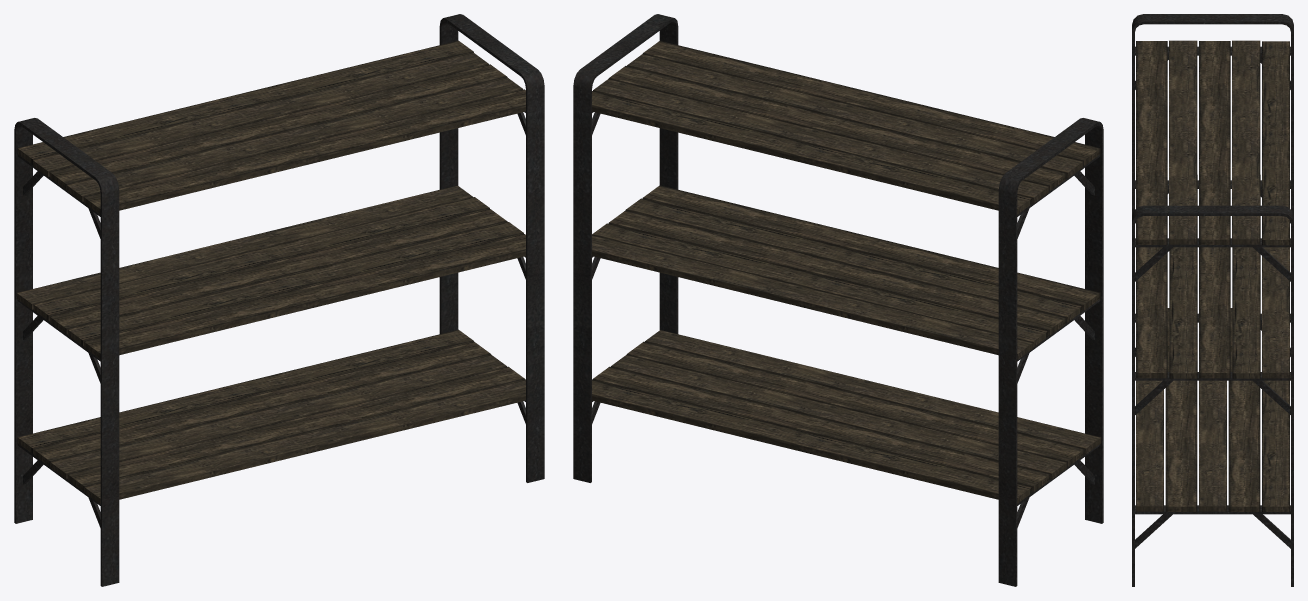
Rendered from shelf_mx_2.obj.
The picture shows the model from 3 angles, left to right: view 1: azimuth 30°, elevation 25°; view 2: azimuth 150°, elevation 25°; view 3: azimuth 270°, elevation 25°; orthographic projection. The views are drawn at different scales.
Visible parts, largest first — view 1: shelf_mx_2; view 2: shelf_mx_2; view 3: shelf_mx_2.
Boxes of the visible parts, box(x1,y1,x2,y2) form: shelf_mx_2: box(14, 14, 544, 586); shelf_mx_2: box(573, 14, 1103, 586); shelf_mx_2: box(1132, 14, 1293, 586).
Bounding box in the file's own units: 1.6 × 1.4 × 0.55.
